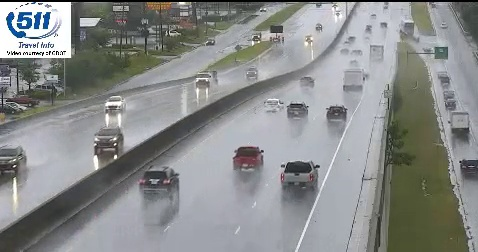car: (281, 161, 318, 189), (140, 167, 177, 193), (233, 146, 263, 168), (326, 105, 347, 121), (287, 101, 307, 117), (264, 98, 282, 113)
